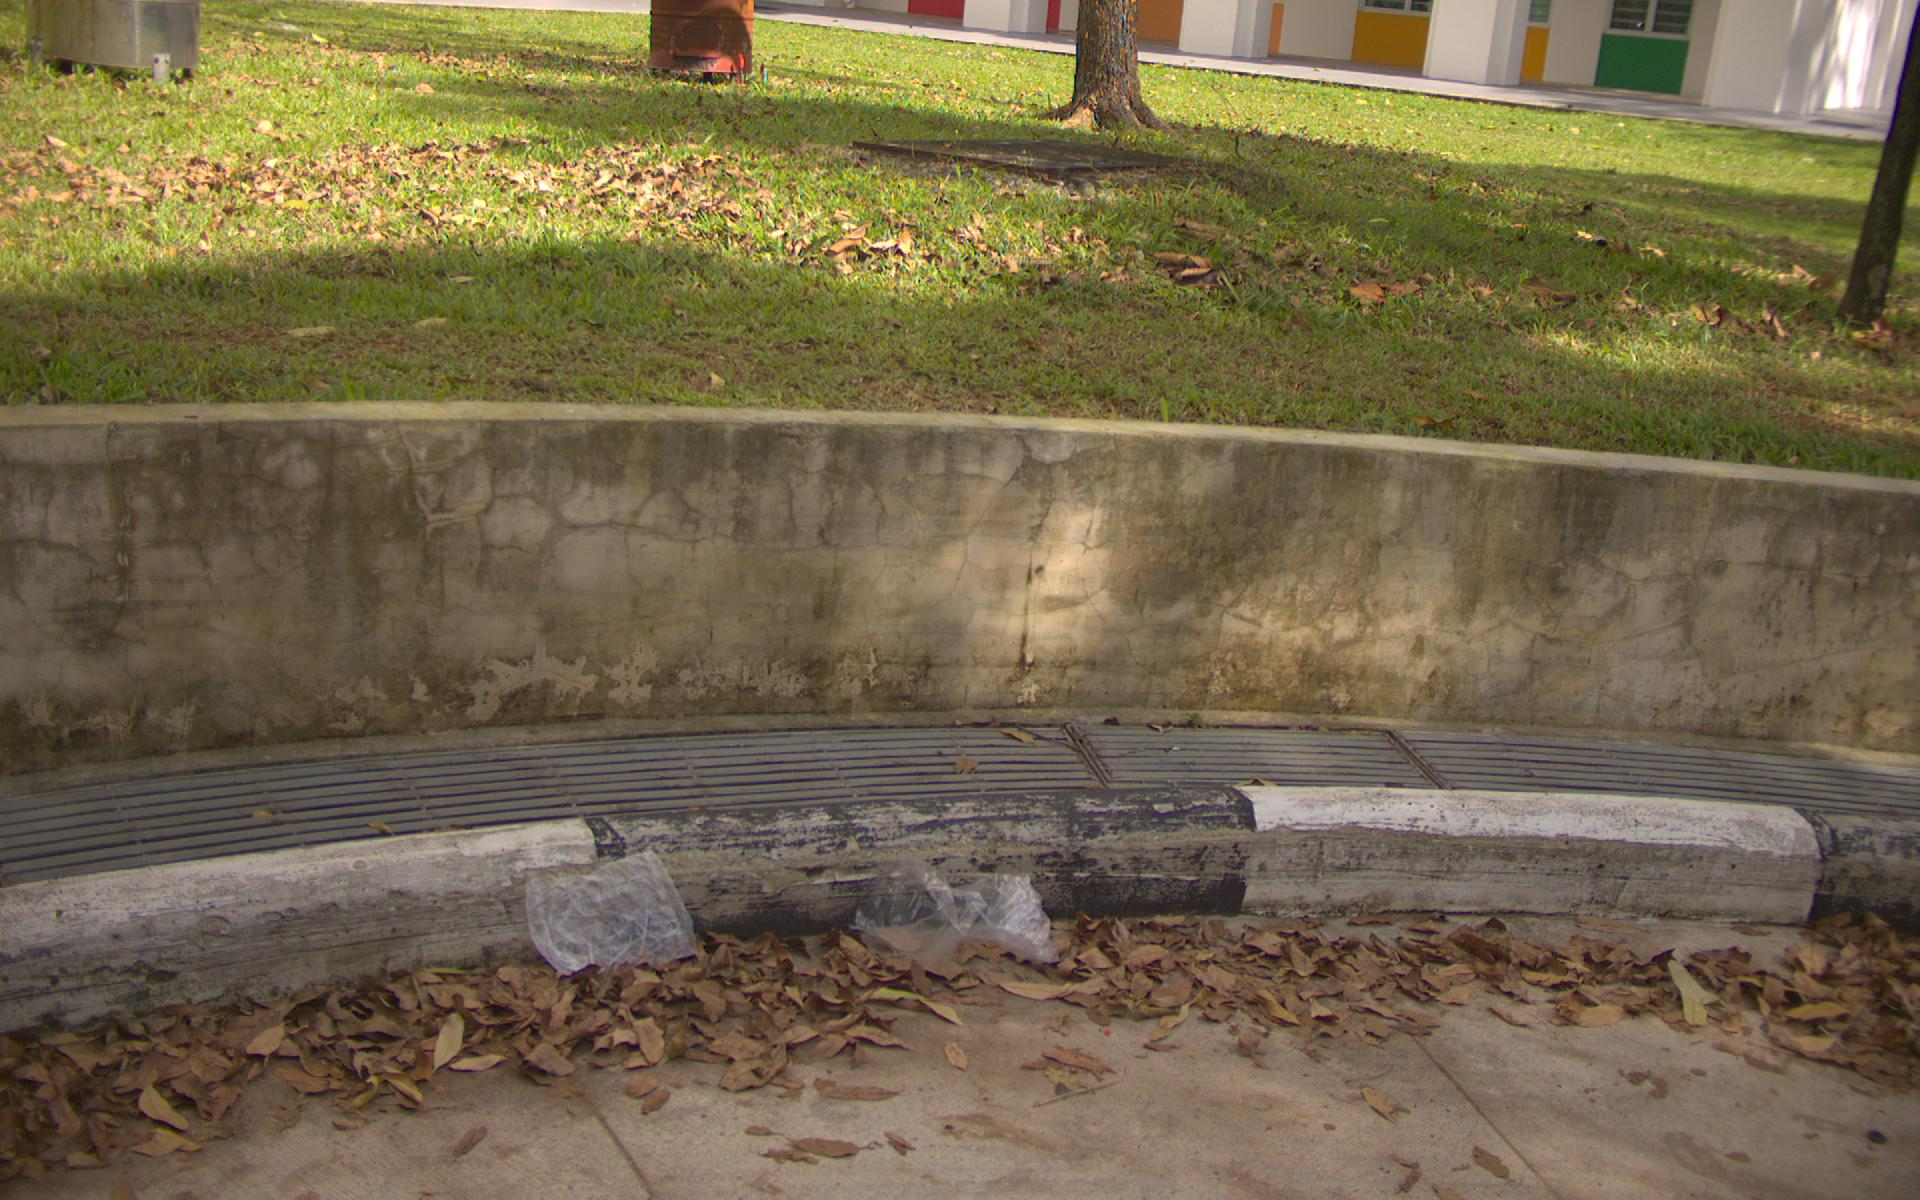curb_grill_low: (17, 718, 1909, 879)
road_curb_medium: (7, 888, 1910, 1199)
road_turf_low: (28, 65, 1903, 465)
